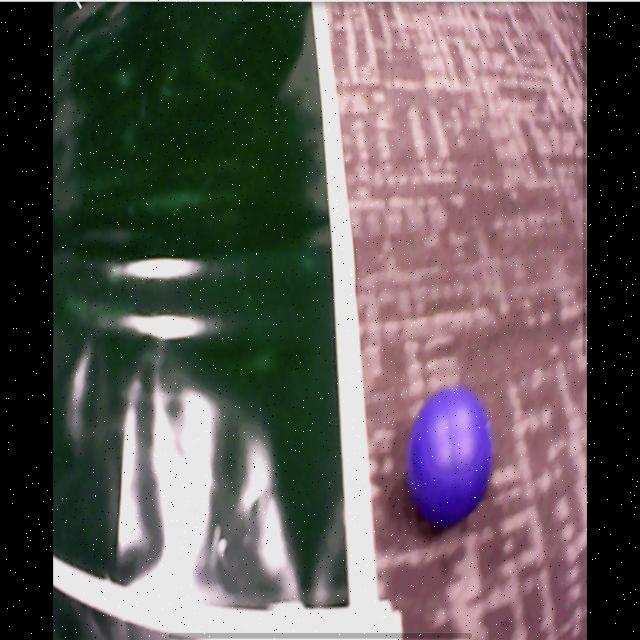ball: (409, 386, 494, 523)
